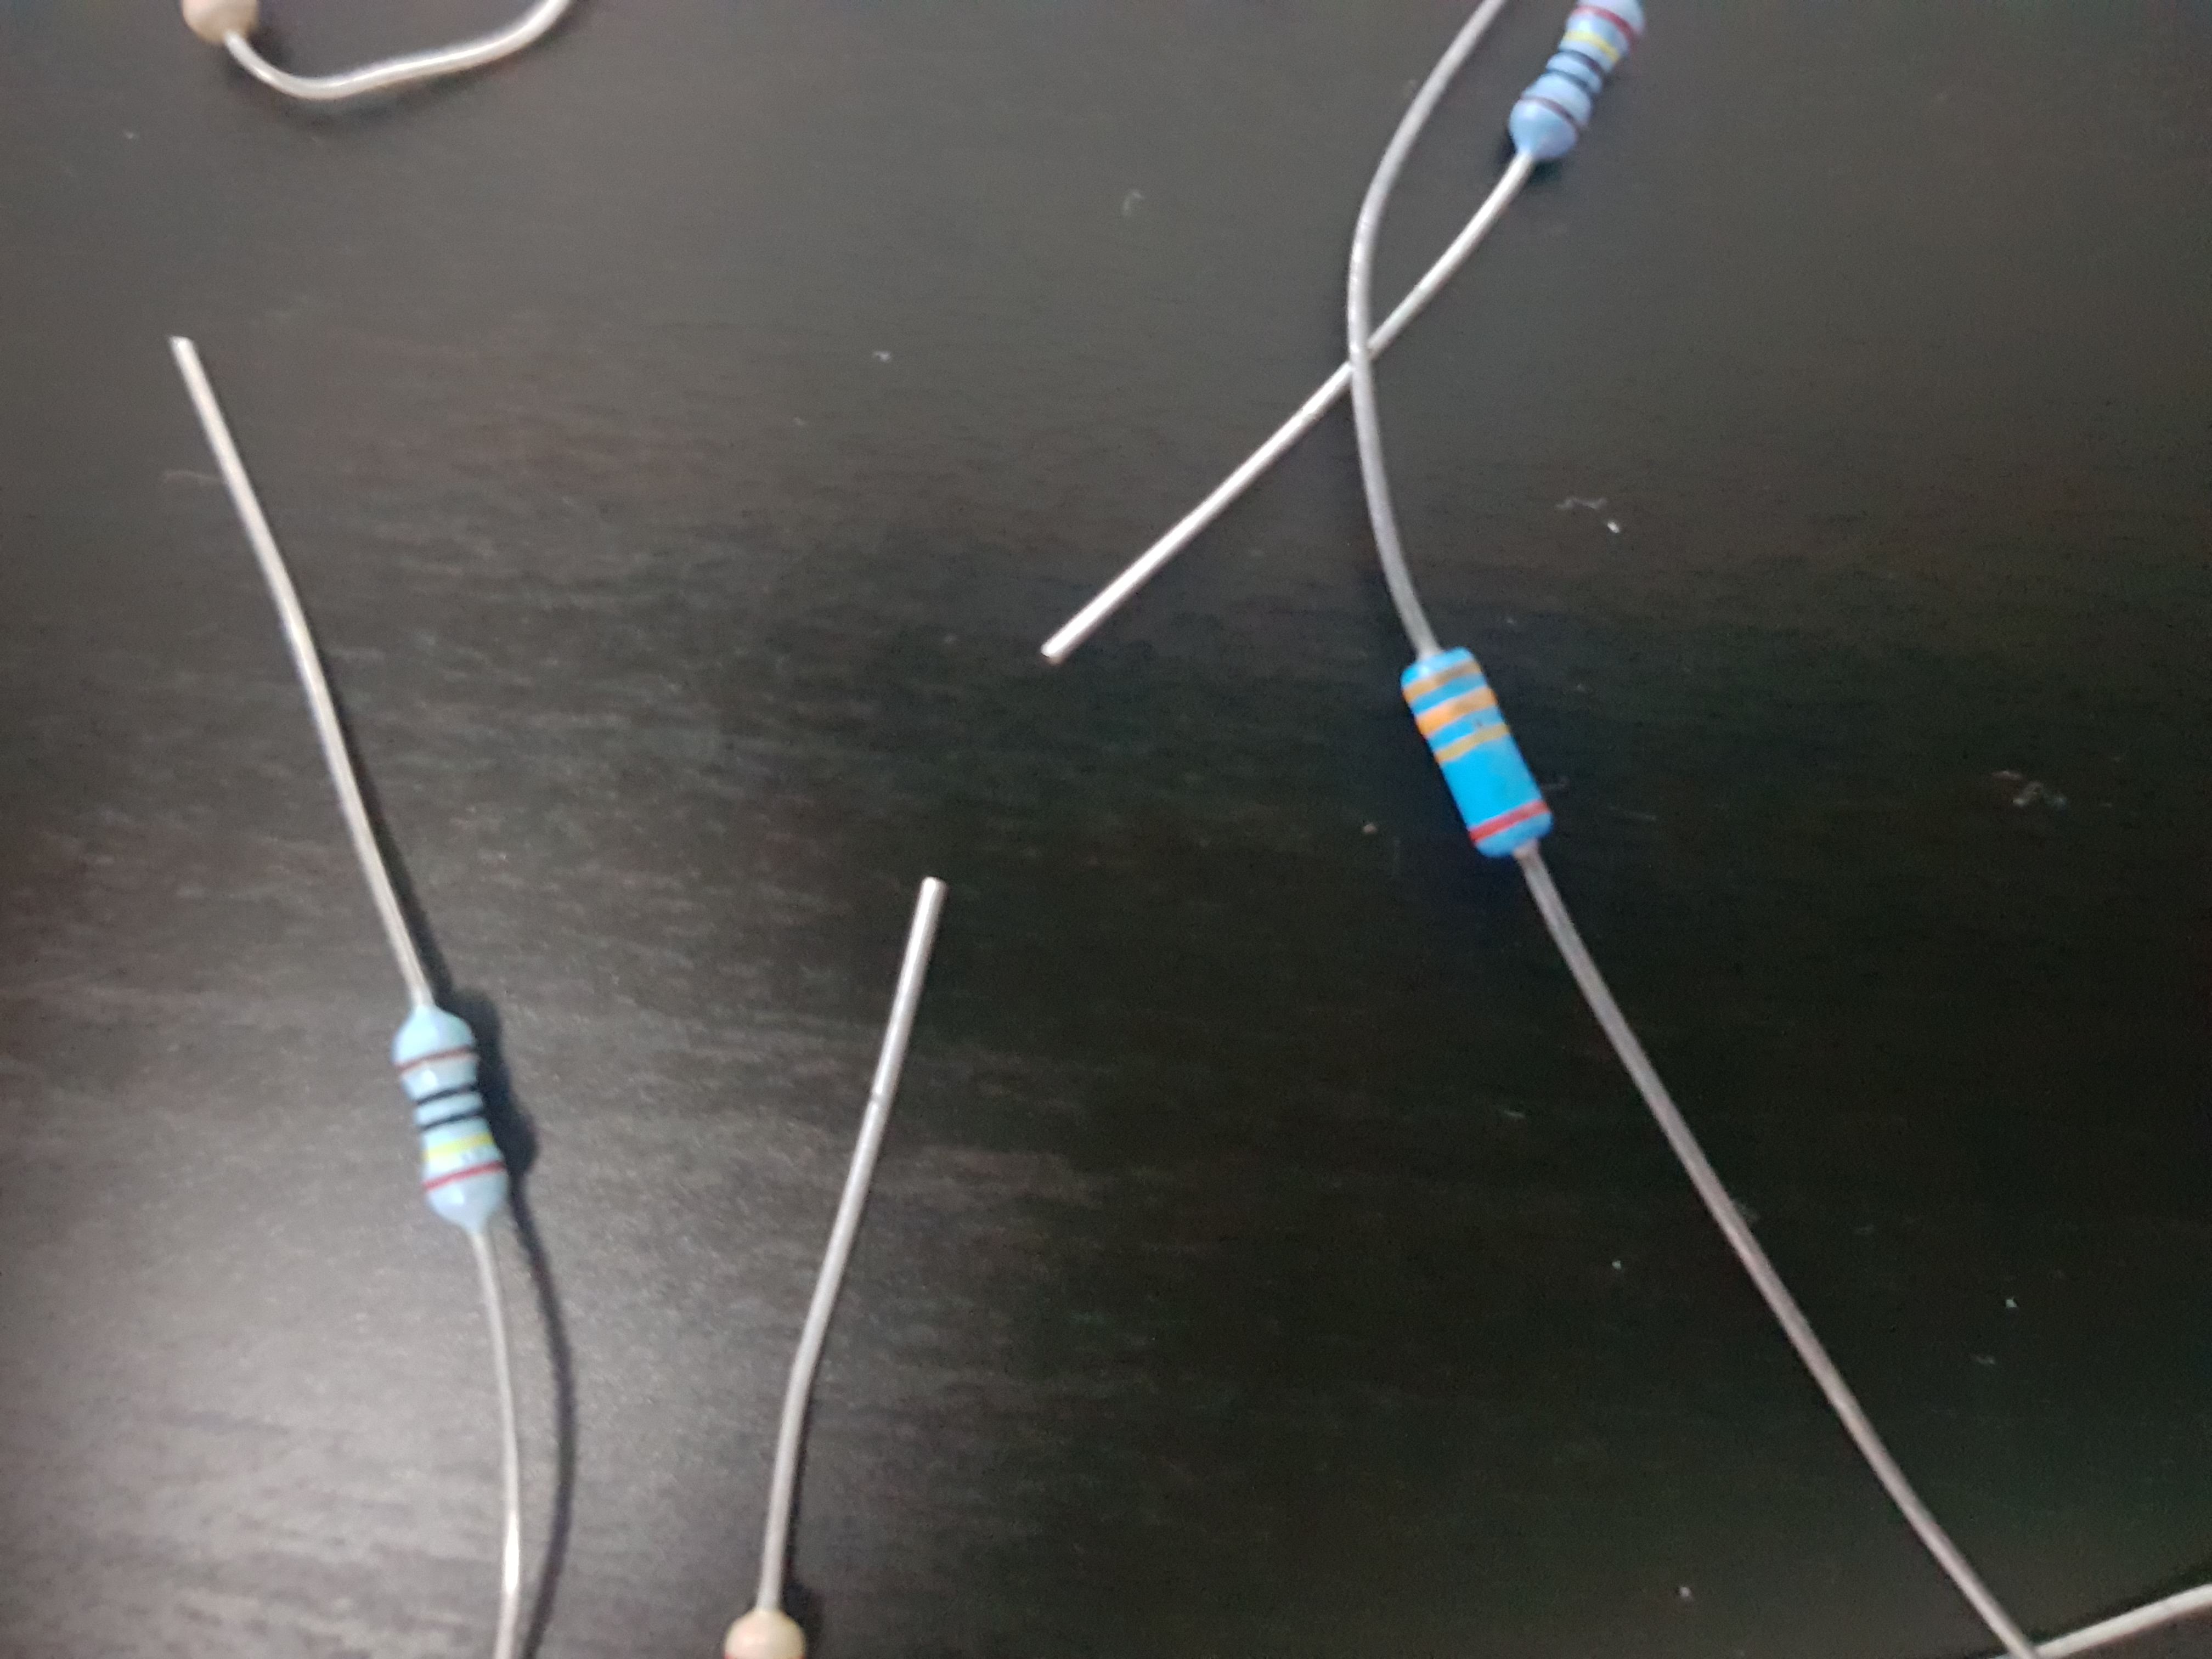resistor: (1256, 582, 1635, 1065), (251, 875, 624, 1328), (1461, 0, 1789, 322)
